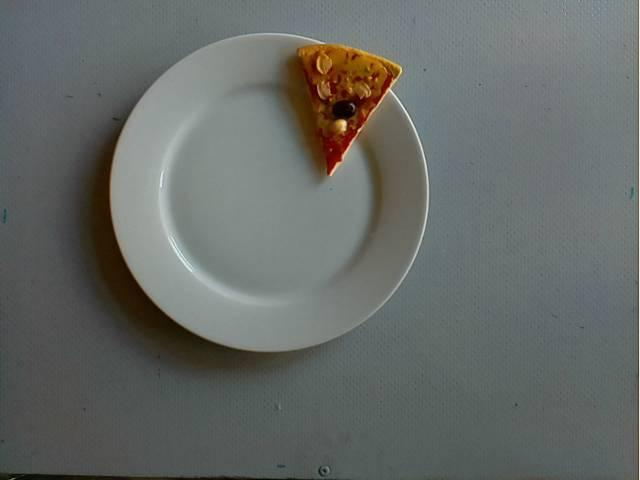Pizza slice (mushroom): (287, 41, 402, 177)
